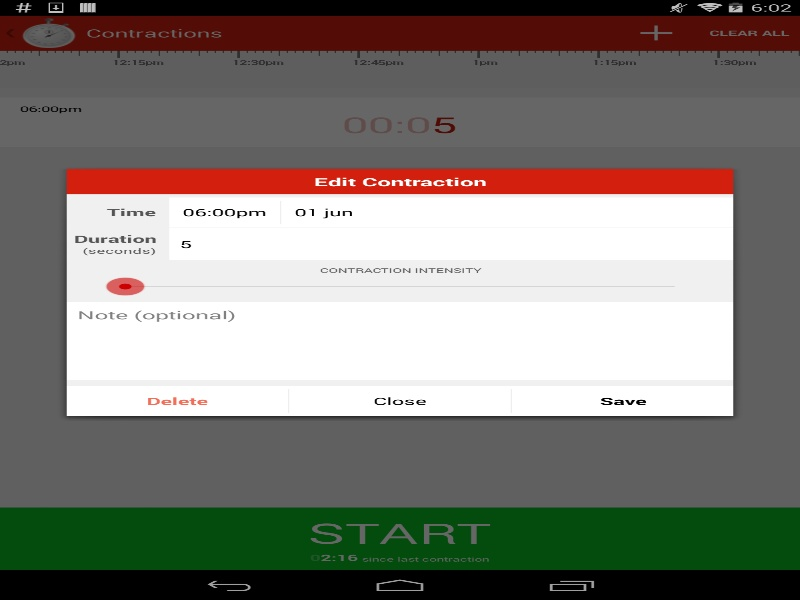Button: (281, 197, 733, 227), (66, 386, 288, 416), (289, 386, 510, 416), (512, 386, 733, 416), (169, 197, 280, 227)
Input: (66, 302, 733, 380), (169, 228, 733, 260)
